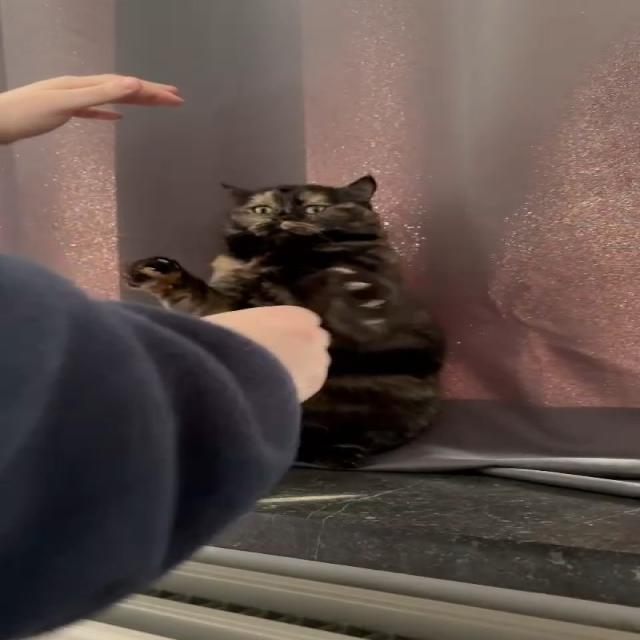authorized: (123, 173, 445, 470)
